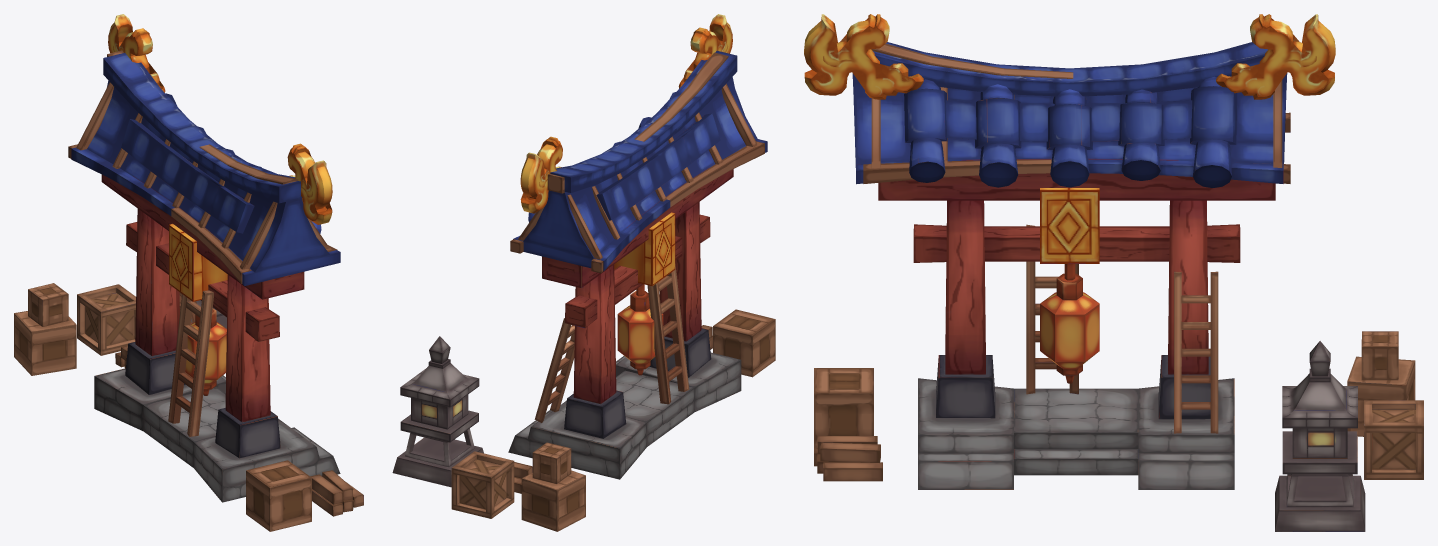
Rendered from china.fbx.
3 views of the same model, side by side, from view 1: azimuth 30°, elevation 25°; view 2: azimuth 150°, elevation 25°; view 3: azimuth 270°, elevation 25° (orthographic). The views are drawn at different scales.
Parts seen in each view (by area): view 1: Cylinder.003, Cube.023, Cube.005, Cylinder.001, Cylinder.005, Circle.001, Cube.008, Cube.020, Cube.017, Cube.018, Cube.021, Cube.024 (+4 smaller); view 2: Cylinder.003, Cube.023, Cube.005, Cube.028, Cylinder.001, Cylinder.005, Cube.017, Circle.001, Cube.020, Cube.008, Cube.018, Cube.024 (+5 smaller); view 3: Cube.005, Cylinder.003, Cube.023, Cube.028, Circle.001, Cube.024, Cube.022, Cylinder.001, Cylinder, Cube.017, Cylinder.005, Cube.021 (+12 smaller).
Part boxes in pixels (x1,y1,x2,y2): Cylinder.003: (71, 53, 340, 285); Cube.023: (125, 209, 280, 458); Cube.005: (94, 368, 340, 502); Cylinder.001: (68, 50, 337, 283); Cylinder.005: (121, 119, 254, 233); Circle.001: (108, 14, 332, 224); Cube.008: (246, 460, 311, 531); Cube.020: (168, 290, 213, 436); Cube.017: (77, 284, 135, 355); Cube.018: (14, 311, 76, 375); Cube.021: (169, 223, 227, 301); Cube.024: (101, 174, 304, 299); Cylinder.003: (513, 50, 767, 271); Cube.023: (564, 202, 711, 438); Cube.005: (508, 352, 741, 479); Cube.028: (392, 336, 483, 487); Cylinder.001: (510, 52, 764, 273); Cylinder.005: (596, 113, 720, 220); Cube.017: (451, 451, 514, 518); Circle.001: (520, 14, 732, 213); Cube.020: (647, 264, 689, 404); Cube.008: (713, 309, 775, 377); Cube.018: (521, 470, 585, 531); Cube.024: (542, 169, 733, 287); Cube.005: (918, 378, 1234, 489); Cylinder.003: (852, 42, 1287, 184); Cube.023: (936, 200, 1210, 419); Cube.028: (1275, 341, 1365, 531); Circle.001: (804, 14, 1335, 99); Cube.024: (878, 173, 1275, 200); Cube.022: (913, 224, 1240, 262); Cylinder.001: (863, 43, 1290, 183); Cylinder: (1040, 264, 1099, 383); Cube.017: (1364, 400, 1423, 479); Cylinder.005: (945, 100, 1192, 141); Cube.021: (1040, 188, 1099, 263).
Size of the model in its own units: 959 by 1621 by 2073.
Materials: 3 (3 with a texture image).
